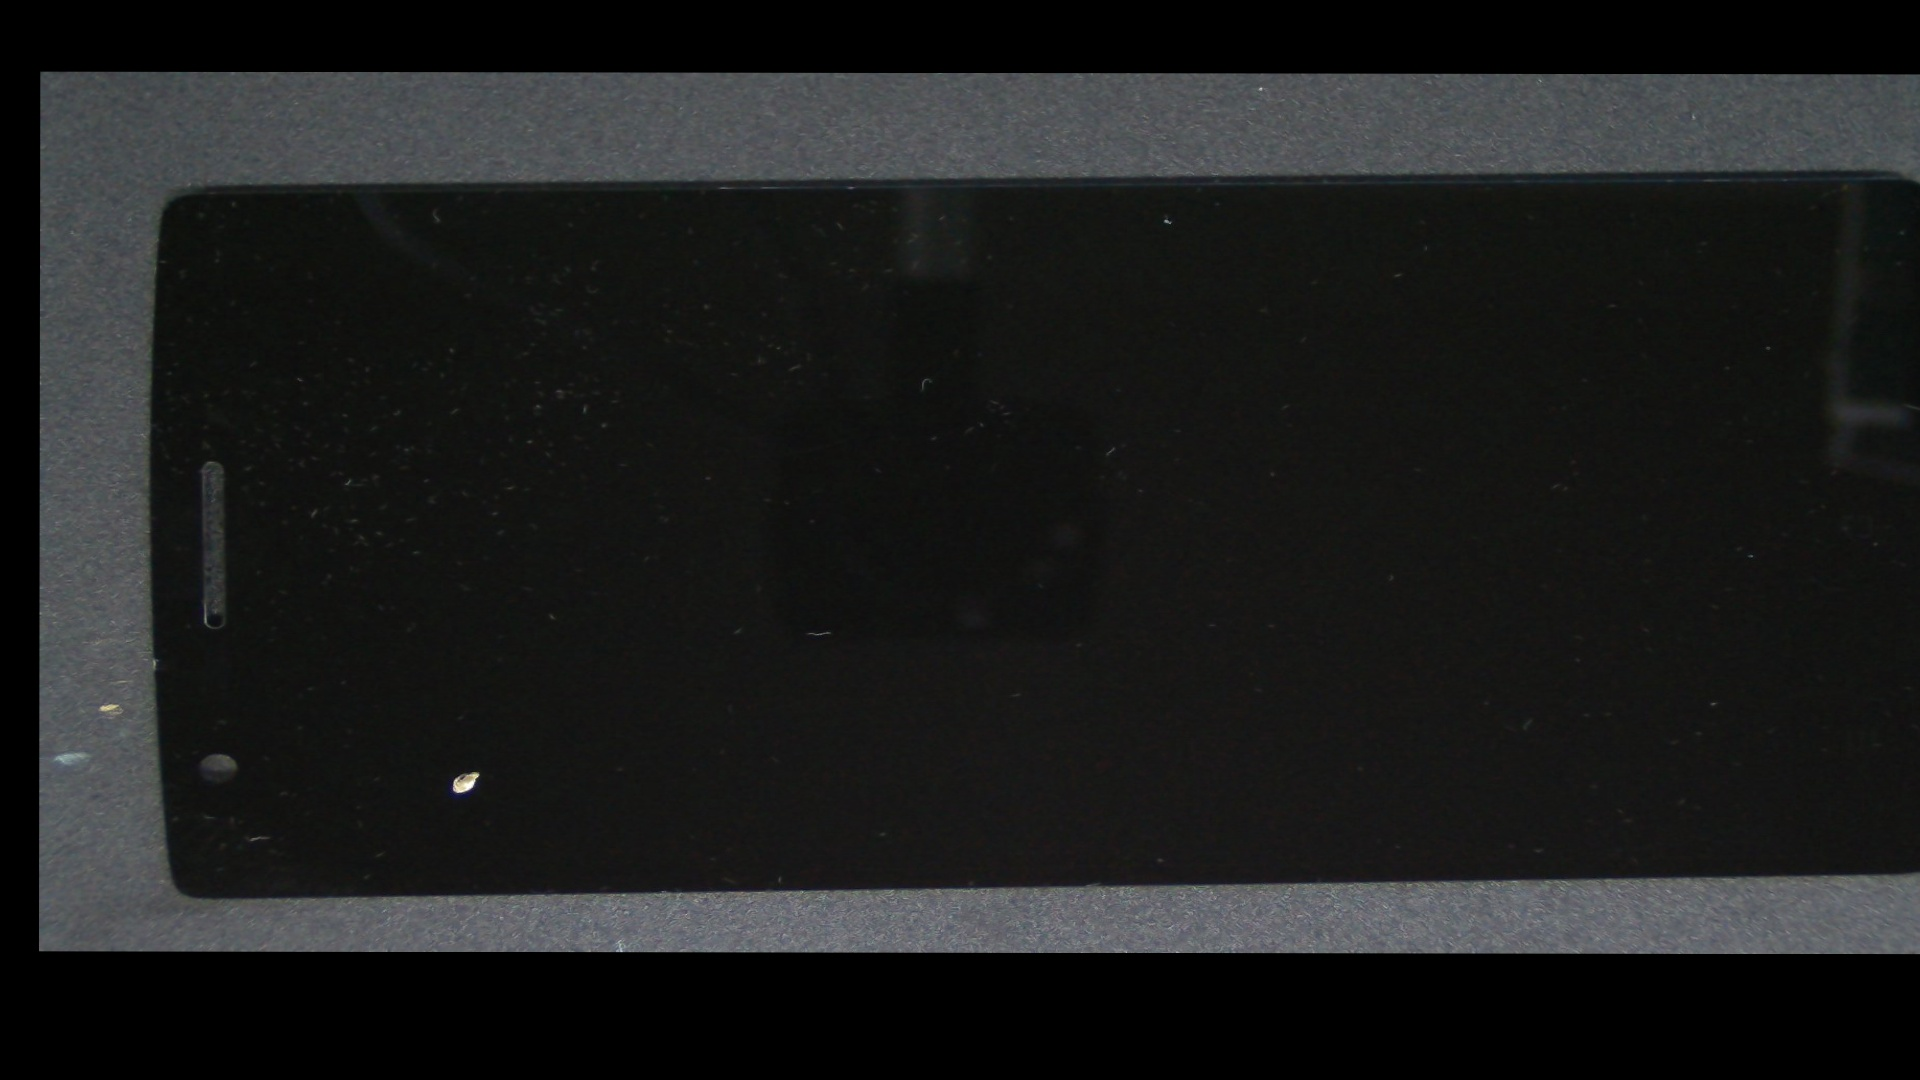oil: (255, 421, 686, 952)
